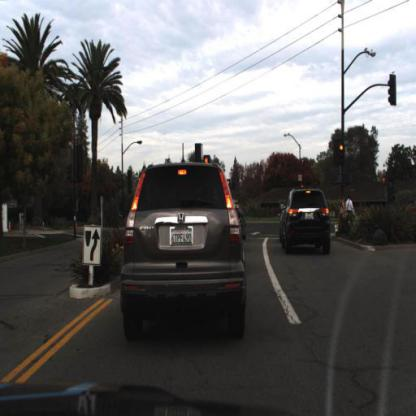car: (119, 161, 249, 346), (280, 189, 330, 254), (397, 195, 416, 226), (341, 198, 347, 224)
pedestrian: (346, 193, 354, 229), (340, 197, 347, 224)
trafficLight-Red: (339, 144, 345, 163), (383, 176, 388, 194)
